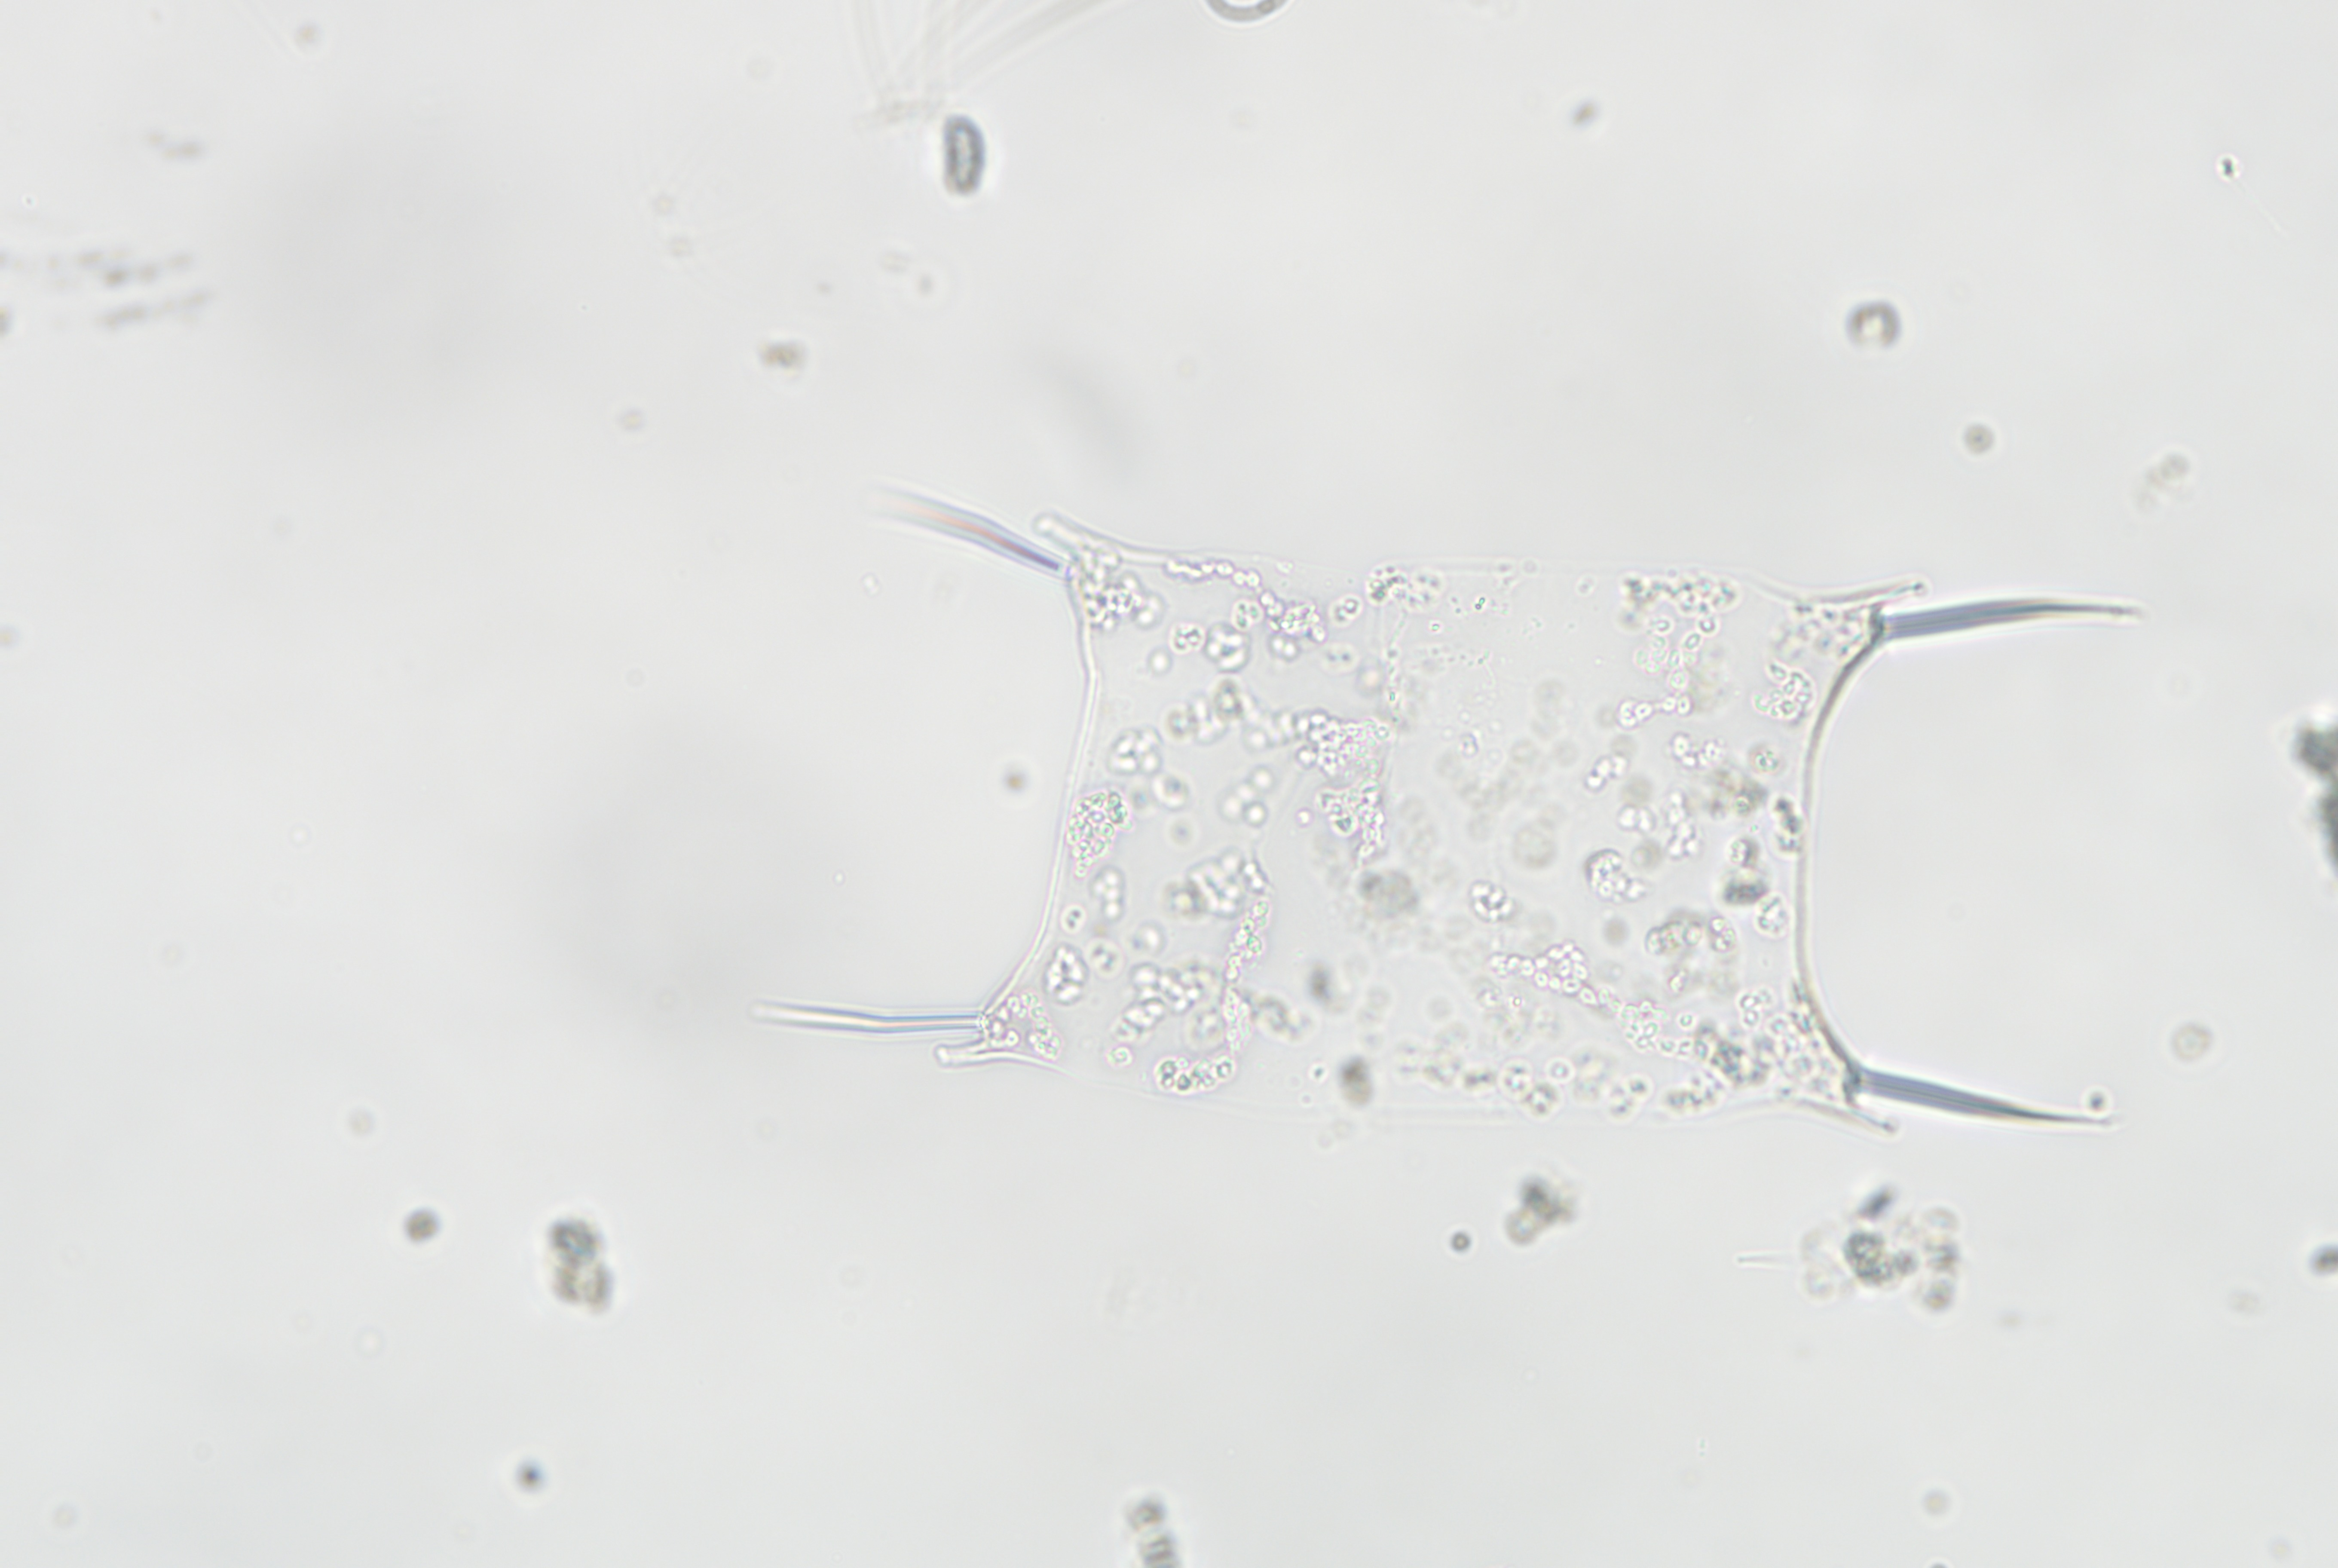biddulphia: (744, 437, 2182, 1164)
